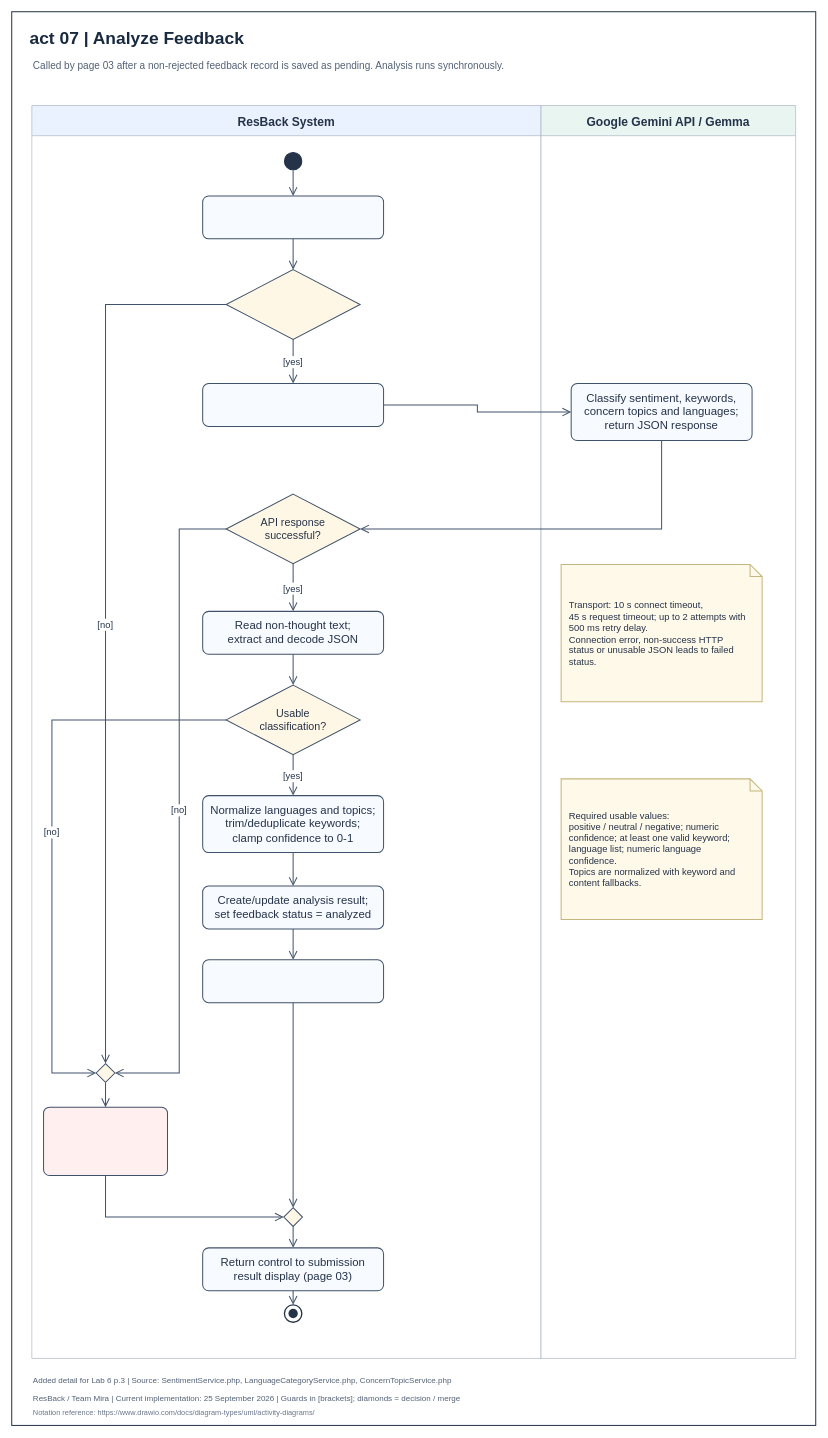
The diagram is 828 pixels wide and 1438 high, and some of its shapes have lost their labels. The centre of each missing label's shape, as x and y in pixels:
"Configuration available?" goes at [292,304].
"Log failure; set status = failed; retain saved feedback" goes at [105,1141].
"Read configured model and API credentials" goes at [293,217].
"Rebuild category concern rankings" goes at [293,981].
"Send feedback text and classification instructions" goes at [293,405].
